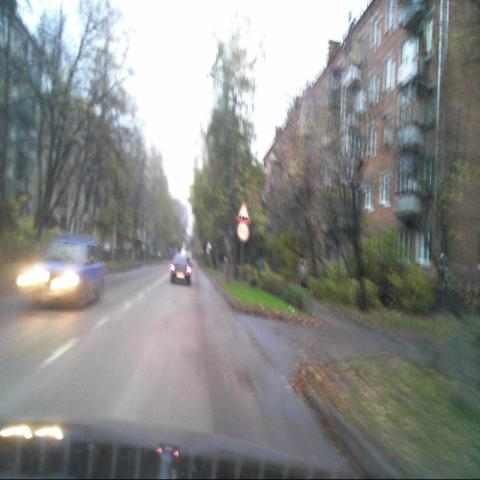1_16: (237, 201, 250, 224)
